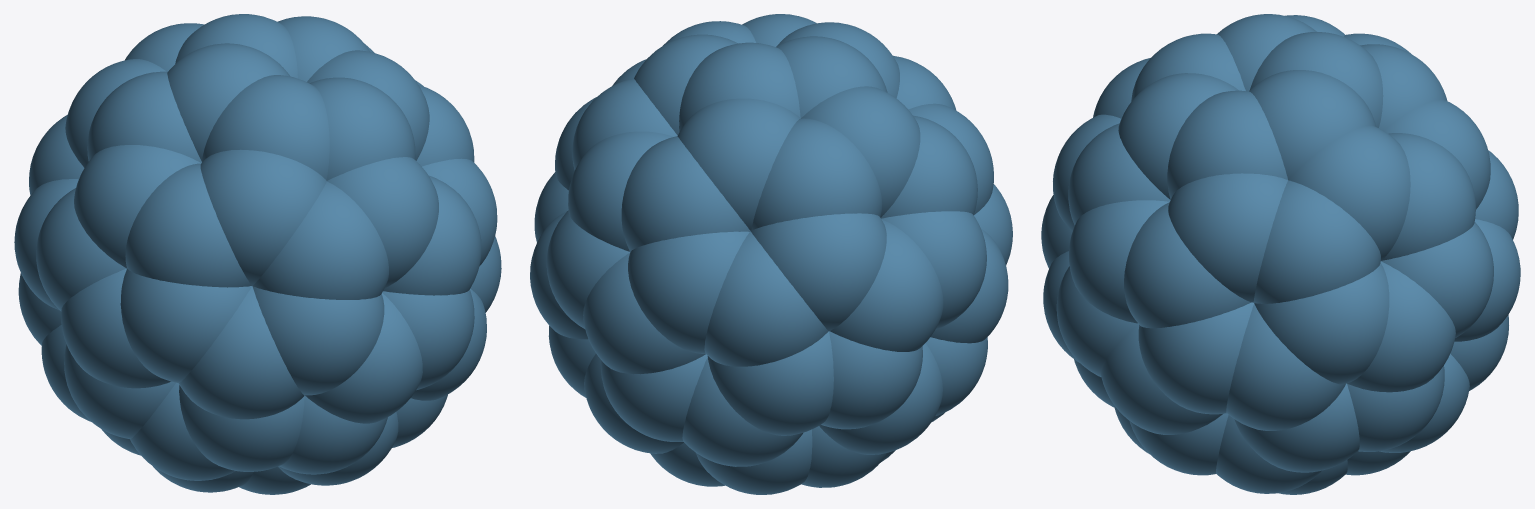
The model's file is laser.glb.
3 renders of one model, left to right at view 1: azimuth 30°, elevation 25°; view 2: azimuth 150°, elevation 25°; view 3: azimuth 270°, elevation 25°, orthographic.
Visible parts, largest first — view 1: atoms; view 2: atoms; view 3: atoms.
Part boxes in pixels (bbox=[...]): atoms: bbox=[14, 14, 501, 494]; atoms: bbox=[530, 14, 1012, 494]; atoms: bbox=[1041, 14, 1520, 494].
Bounding box in the file's own units: 10.15 × 10.15 × 10.14.
